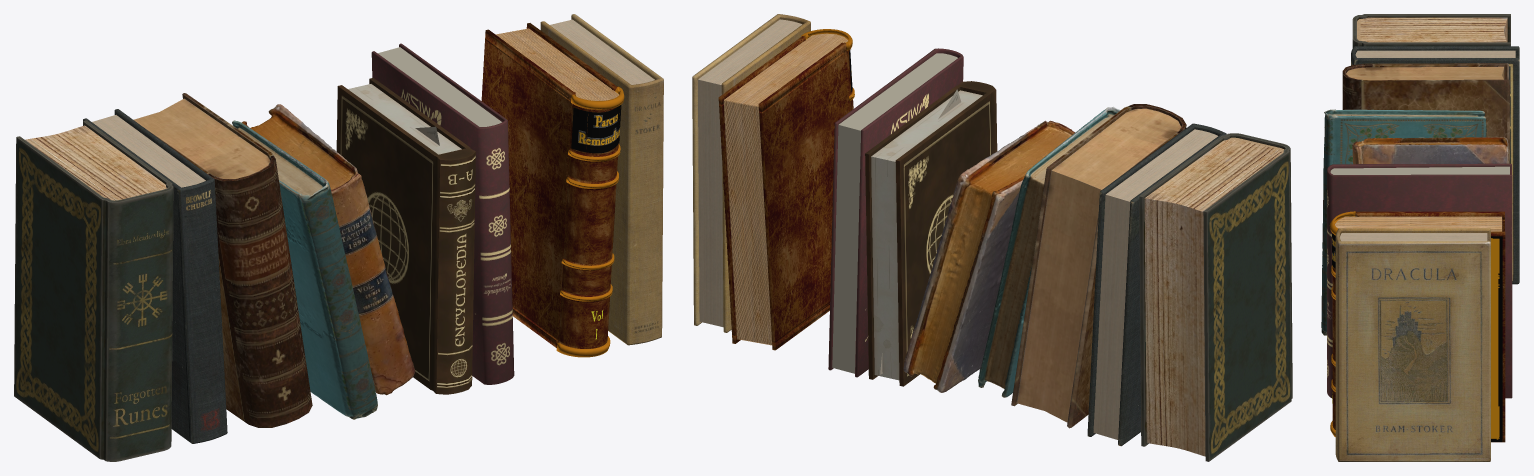
File: Final_Books.glb
3 views of the same model, side by side, from view 1: azimuth 30°, elevation 25°; view 2: azimuth 150°, elevation 25°; view 3: azimuth 270°, elevation 25° (orthographic). The views are drawn at different scales.
Visible parts, largest first — view 1: object 16, Box001, cover001, Book_closed_Big, dracula_1st_edition_1899objcleanermaterialmergergles, beowulfobjcleanermaterialmergergles, book, Bookobjcleanermaterialmergergles, Victorian_Statutes_1890objcleanermaterialmergergles, pages001, cover002, PM001; view 2: object 16, Book_closed_Big, Box001, cover001, Victorian_Statutes_1890objcleanermaterialmergergles, beowulfobjcleanermaterialmergergles, book, dracula_1st_edition_1899objcleanermaterialmergergles, pages001, Bookobjcleanermaterialmergergles; view 3: dracula_1st_edition_1899objcleanermaterialmergergles, book, Book_closed_Big, Bookobjcleanermaterialmergergles, object 16, beowulfobjcleanermaterialmergergles, Victorian_Statutes_1890objcleanermaterialmergergles, 000-Front-Cover-shabby-chic-border-q75-2560x1600001, cover001, pages001, cover002.
Boxes of the visible parts, x1,y1,x2,y2 form: object 16: (14, 120, 173, 461); Box001: (336, 78, 475, 394); cover001: (481, 23, 620, 348); Book_closed_Big: (129, 93, 312, 427); dracula_1st_edition_1899objcleanermaterialmergergles: (540, 14, 663, 345); beowulfobjcleanermaterialmergergles: (83, 109, 227, 443); book: (371, 43, 514, 384); Bookobjcleanermaterialmergergles: (232, 120, 377, 419); Victorian_Statutes_1890objcleanermaterialmergergles: (241, 104, 415, 395); pages001: (495, 28, 618, 100); cover002: (556, 86, 624, 357); PM001: (571, 105, 621, 153); object 16: (1139, 133, 1292, 461); Book_closed_Big: (1011, 104, 1186, 428); Box001: (865, 81, 997, 386); cover001: (718, 36, 853, 350); Victorian_Statutes_1890objcleanermaterialmergergles: (903, 120, 1075, 392); beowulfobjcleanermaterialmergergles: (1087, 123, 1226, 446); book: (828, 48, 963, 377); dracula_1st_edition_1899objcleanermaterialmergergles: (692, 14, 810, 332); pages001: (723, 33, 847, 345); Bookobjcleanermaterialmergergles: (978, 107, 1120, 397); dracula_1st_edition_1899objcleanermaterialmergergles: (1335, 228, 1490, 461); book: (1327, 163, 1512, 398); Book_closed_Big: (1342, 63, 1509, 163); Bookobjcleanermaterialmergergles: (1321, 109, 1486, 335); object 16: (1352, 14, 1510, 47); beowulfobjcleanermaterialmergergles: (1351, 46, 1519, 284); Victorian_Statutes_1890objcleanermaterialmergergles: (1352, 137, 1508, 164); 000-Front-Cover-shabby-chic-border-q75-2560x1600001: (1491, 236, 1502, 441); cover001: (1332, 211, 1505, 442); pages001: (1335, 216, 1502, 231); cover002: (1329, 211, 1355, 436).
Bounding box in the file's own units: 2.22 × 1.07 × 0.8133.
14 materials, 12 textured.
